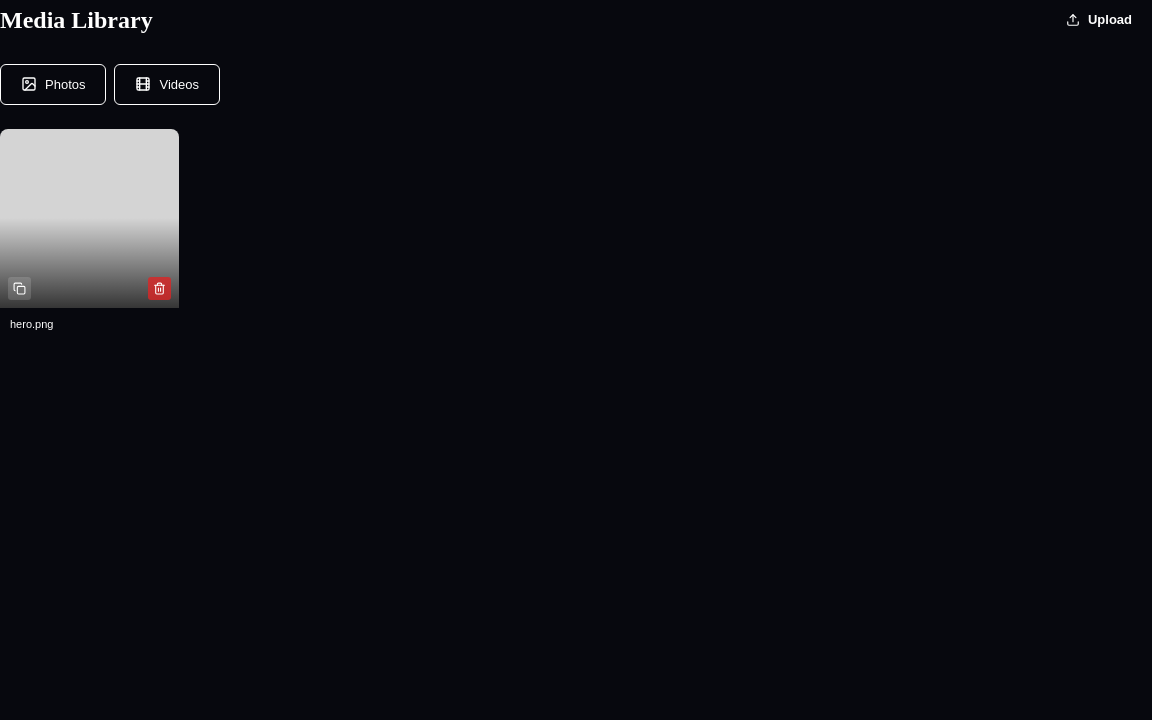
Scenario: MediaLibrary delete › opens a confirmation instead of deleting, and deletes only after confirm
The width and height of the screenshot is (1152, 720).
Step 1. Click the button named "Delete hero.png" → (159,288), box [148,277,171,300]
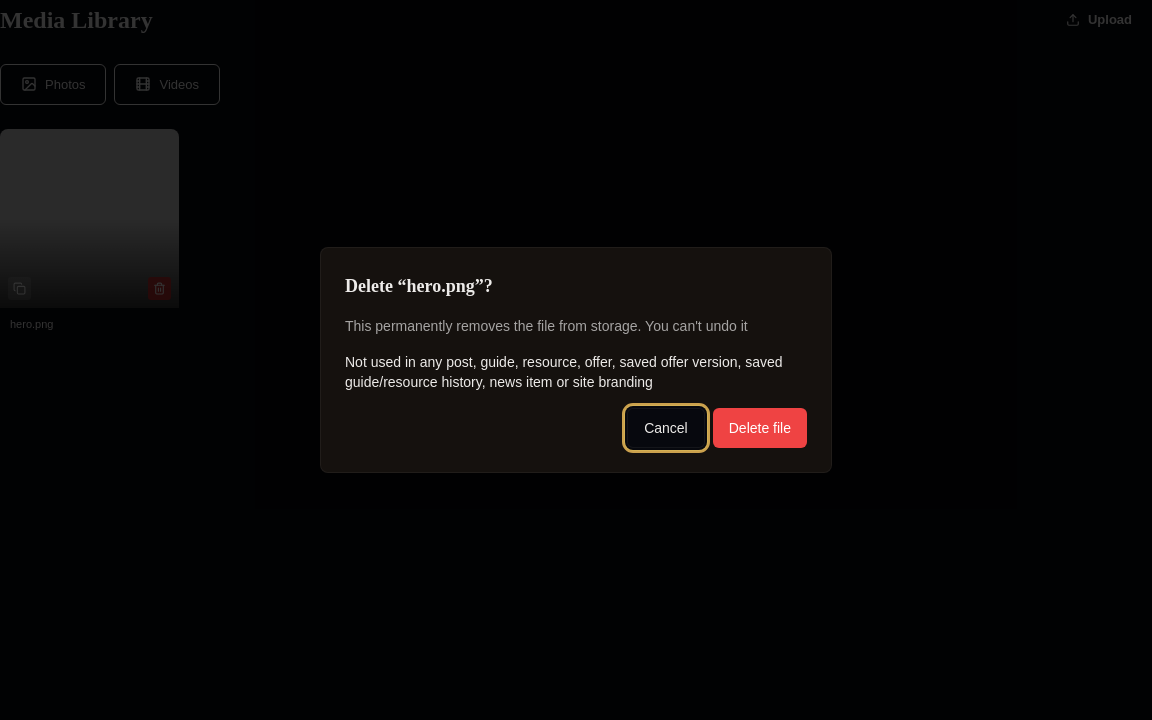
Result: the heading "Delete “hero.png”?" is shown at [345,276,493,296]
Result: the text "Not used in any post" is shown at [345,354,783,390]
Step 2. Click the button "Delete file" → (760,428), box [713,408,807,448]
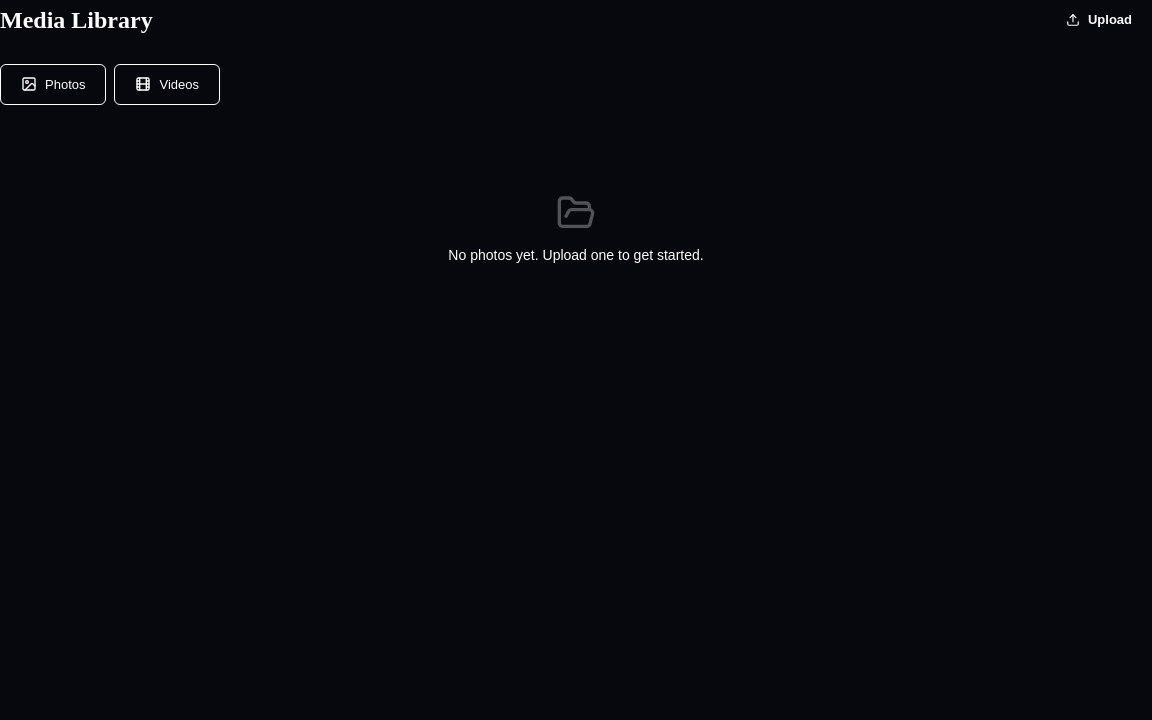
Result: the dialog is gone
Result: the text "hero.png" is gone
